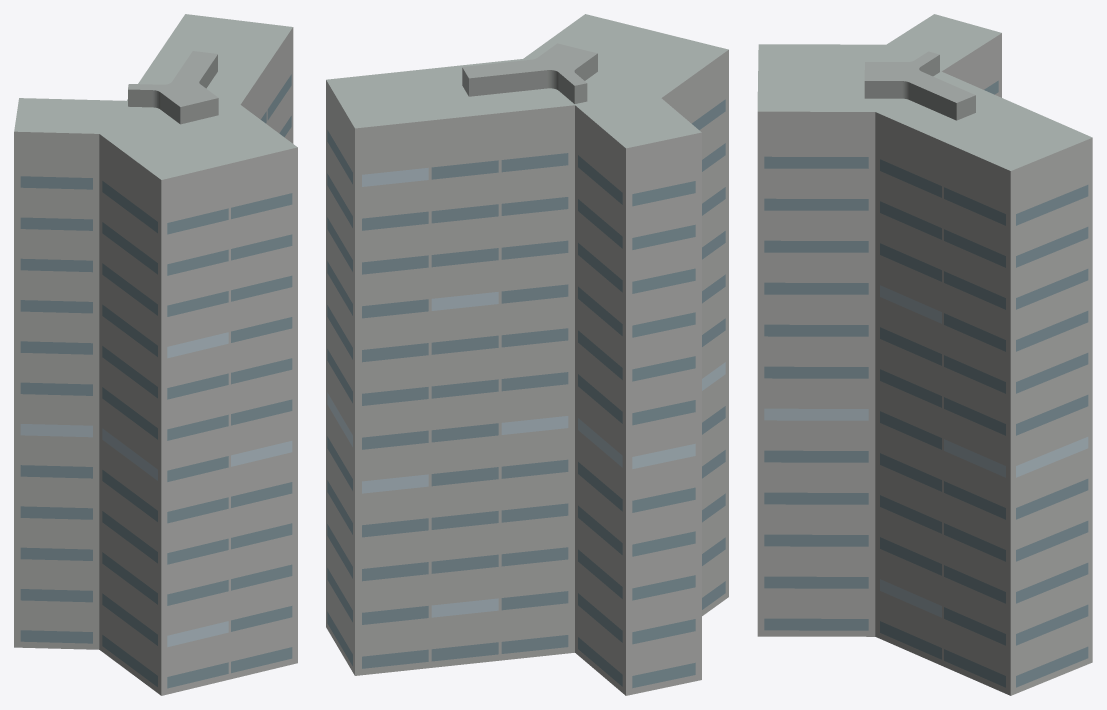
The model's file is fallback-dmc-parkview-xi-extension-117.glb.
3 views of the same model, side by side, from view 1: azimuth 30°, elevation 25°; view 2: azimuth 150°, elevation 25°; view 3: azimuth 270°, elevation 25° (orthographic). The views are drawn at different scales.
Parts seen in each view (by area): view 1: fallback-dmc-parkview-xi-extension-117; view 2: fallback-dmc-parkview-xi-extension-117; view 3: fallback-dmc-parkview-xi-extension-117.
Part boxes in pixels (x1=…): fallback-dmc-parkview-xi-extension-117: x1=14, y1=14, x2=297, y2=695; fallback-dmc-parkview-xi-extension-117: x1=326, y1=14, x2=728, y2=695; fallback-dmc-parkview-xi-extension-117: x1=757, y1=14, x2=1092, y2=695.
Size of the model in its own units: 45.98 by 74 by 41.5.
